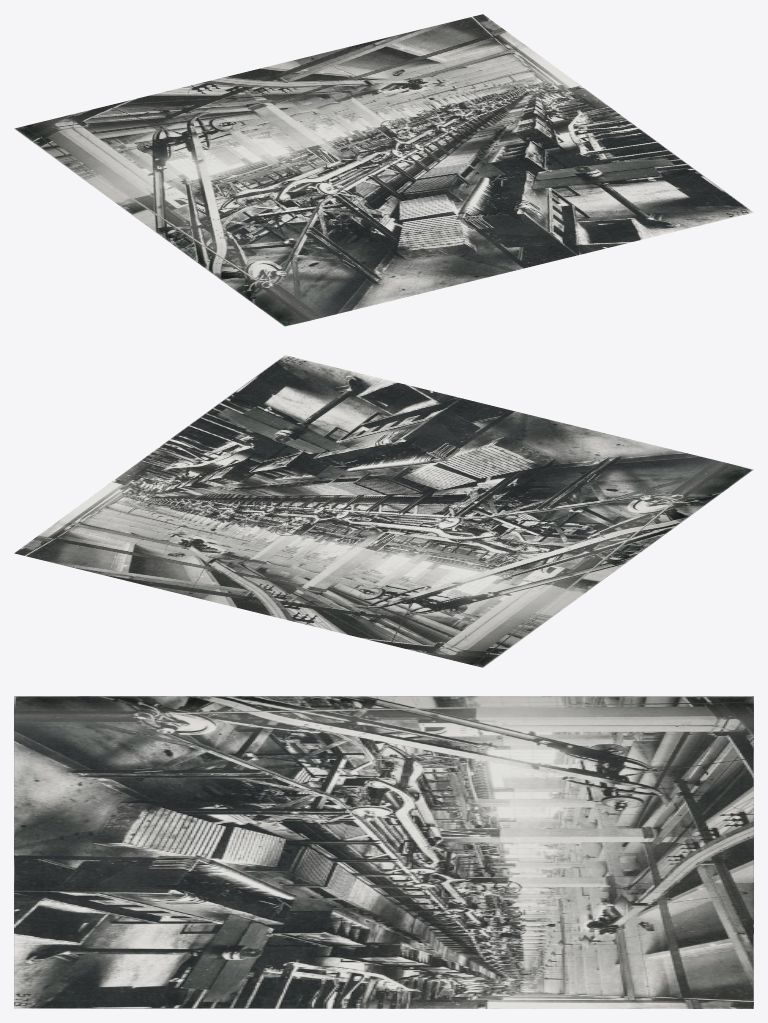
Rendered from nico.obj.
The picture shows the model from 3 angles, top to bottom: view 1: azimuth 30°, elevation 25°; view 2: azimuth 150°, elevation 25°; view 3: azimuth 270°, elevation 25°; orthographic projection. The views are drawn at different scales.
Visible parts, largest first — view 1: Plane001; view 2: Plane001; view 3: Plane001.
Part boxes in pixels (bbox=[...]): Plane001: bbox=[14, 14, 753, 326]; Plane001: bbox=[14, 355, 753, 667]; Plane001: bbox=[14, 696, 753, 1008].
Size of the model in its own units: 3.94 by 0 by 3.94.
